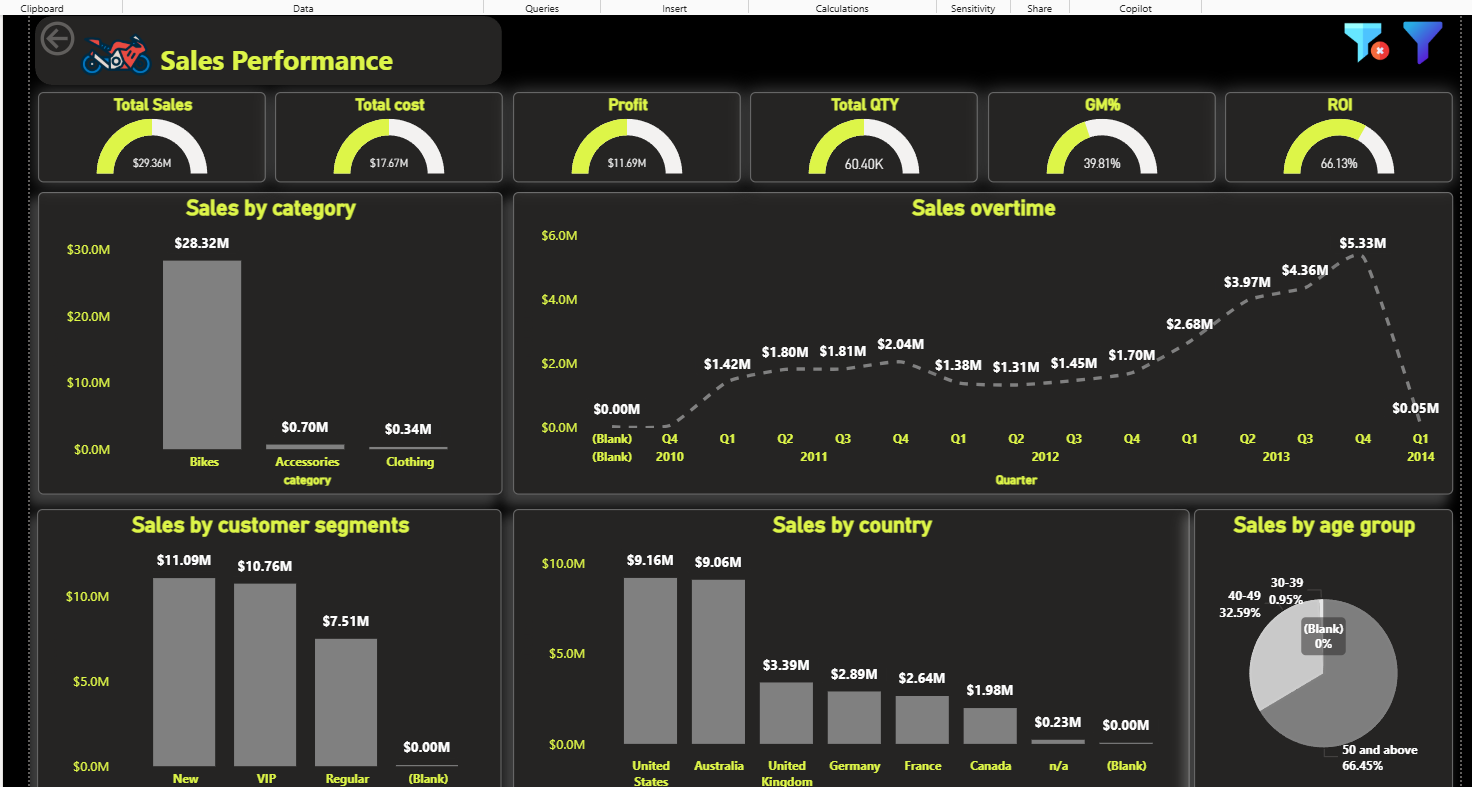

The page's visual inventory and layout, read from the dashboard file:
{"tool":"powerbi","page":{"name":"Sales Page","canvas":[1280,720],"ordinal":1},"visuals":[{"type":"lineChart","title":"Sales overtime","fields":{"Y":["CALC.Total Sales"],"Category":["CalendarTable.Year","CalendarTable.Quarter"]},"box":[432.5,158.5,841.8,271.3],"z":0},{"type":"columnChart","title":"Sales by category","fields":{"Category":["gold report_products.category"],"Y":["CALC.Total Sales"]},"box":[7.2,158.5,415.5,271.3],"z":1000},{"type":"columnChart","title":"Sales by country","fields":{"Category":["gold report_customers.country"],"Y":["CALC.Total Sales"]},"box":[432.5,442.4,606.3,271.3],"z":2000},{"type":"columnChart","title":"Sales by customer segments","fields":{"Y":["CALC.Total Sales"],"Category":["gold report_customers.customer_segment"]},"box":[6.3,442.4,416.4,271.3],"z":3000},{"type":"shape","box":[4.5,0.9,418.4,61.8],"z":4000,"group":"g1"},{"type":"pieChart","title":"Sales by age group","fields":{"Y":["CALC.Total Sales"],"Category":["gold report_customers.age_group"]},"box":[1042.4,442.4,231.9,272.2],"z":4000},{"type":"image","box":[24.5,0,104.1,77],"z":5000,"group":"g1"},{"type":"gauge","fields":{"Y":["CALC.Total Sales"]},"box":[7.2,69,204.2,81.5],"z":5000},{"type":"gauge","fields":{"Y":["CALC.Total cost"]},"box":[219.8,69,204.2,81.5],"z":6000},{"type":"textbox","box":[111.6,17.9,226.2,46.6],"z":6500,"group":"g1"},{"type":"gauge","fields":{"Y":["CALC.Profit"]},"box":[432.4,69,204.2,81.5],"z":7000},{"type":"gauge","fields":{"Y":["CALC.Total QTY"]},"box":[645,69,204.2,81.5],"z":8000},{"type":"gauge","title":"GM%","fields":{"Y":["CALC.Gross margin"]},"box":[857.6,69,204.2,81.5],"z":9000},{"type":"gauge","fields":{"Y":["CALC.ROI"]},"box":[1070.1,69,204.2,81.5],"z":10000},{"type":"image","box":[1172.2,0,50.1,50.1],"z":11000},{"type":"image","box":[1222.4,0,50.1,50.1],"z":12000},{"type":"group","id":"g1","title":"Group 3","box":[4.5,0,418.4,77],"z":17000},{"type":"actionButton","box":[4.5,0.9,43.9,40.3],"z":18000,"group":"g1"}]}

Visuals, with their boxes on the page's 1280x720 design canvas (x1, y1, x2, y2). These are canvas units, not pixel positions in the 1472x787 screenshot, which may show the page scaled, cropped or inside an application window:
"Sales overtime" lineChart: rect(432, 158, 1274, 430)
"Sales by category" columnChart: rect(7, 158, 423, 430)
"Sales by country" columnChart: rect(432, 442, 1039, 714)
"Sales by customer segments" columnChart: rect(6, 442, 423, 714)
shape: rect(4, 1, 423, 63)
"Sales by age group" pieChart: rect(1042, 442, 1274, 715)
image: rect(24, 0, 129, 77)
gauge - CALC.Total Sales: rect(7, 69, 211, 150)
gauge - CALC.Total cost: rect(220, 69, 424, 150)
textbox: rect(112, 18, 338, 64)
gauge - CALC.Profit: rect(432, 69, 637, 150)
gauge - CALC.Total QTY: rect(645, 69, 849, 150)
"GM%" gauge: rect(858, 69, 1062, 150)
gauge - CALC.ROI: rect(1070, 69, 1274, 150)
image: rect(1172, 0, 1222, 50)
image: rect(1222, 0, 1272, 50)
"Group 3" group: rect(4, 0, 423, 77)
actionButton: rect(4, 1, 48, 41)
